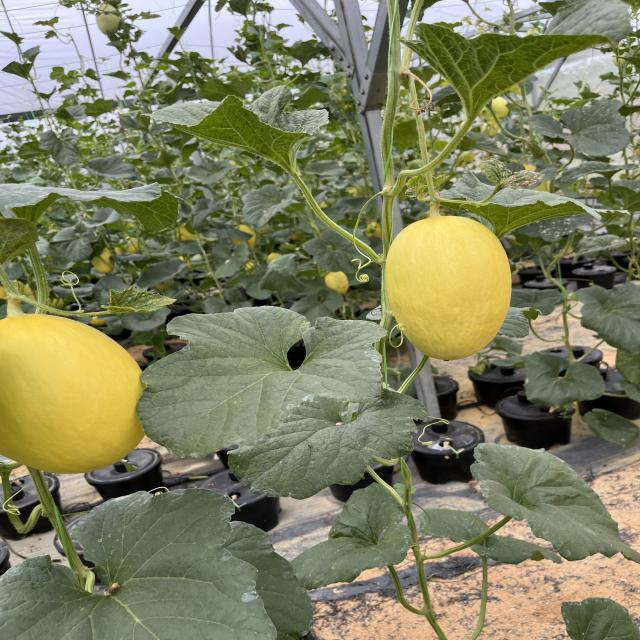CMV: (393, 2, 634, 112), (104, 287, 186, 317)
alternaria leaf blight: (471, 155, 555, 190)
downy mildew: (2, 487, 267, 640), (149, 85, 332, 174)
healthy: (125, 302, 408, 458), (251, 393, 445, 493), (469, 444, 621, 560), (290, 484, 410, 589), (0, 176, 195, 221)
